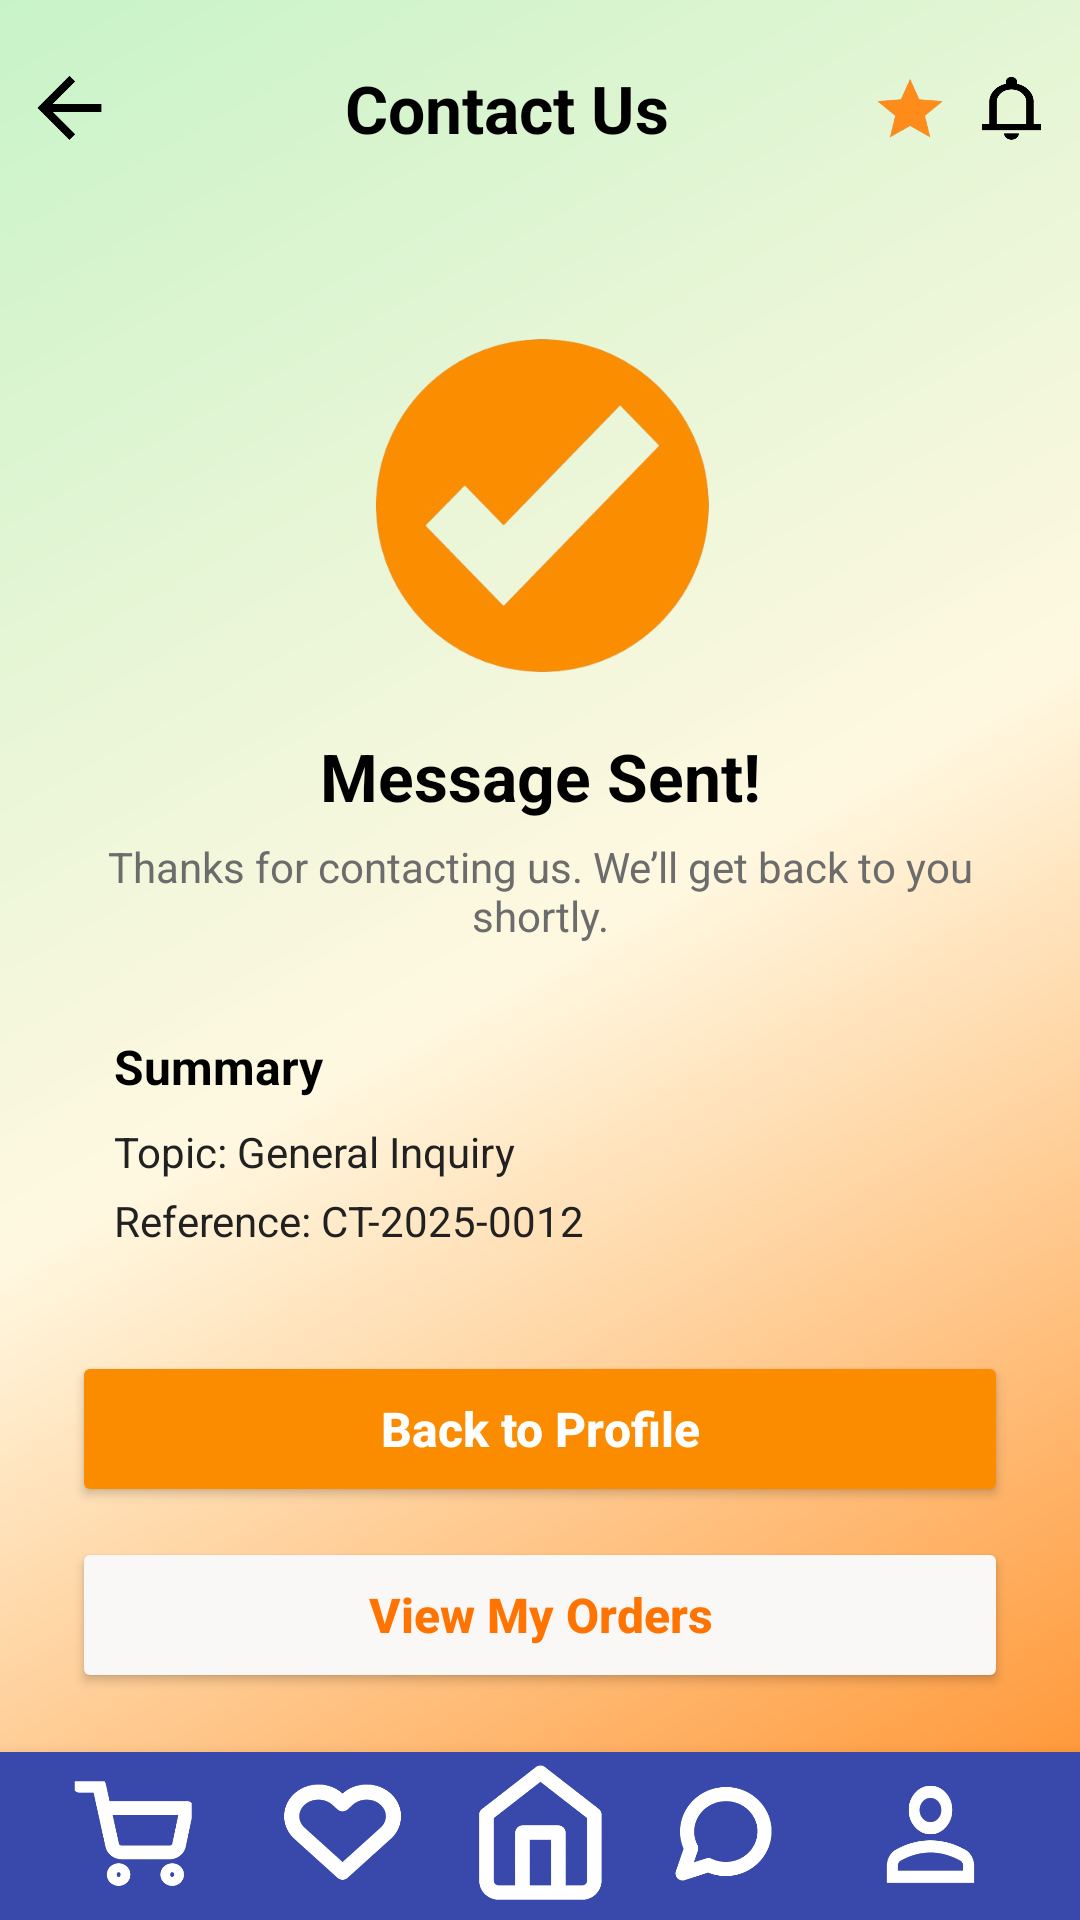

Point at icon controls on the screen. Image size 1080 × 1920, points as (x=x, y=y).
back arrow: (x=70, y=108)
bell: (x=1011, y=108)
menu cart: (x=133, y=1833)
menu home: (x=540, y=1832)
menu profile: (x=930, y=1834)
menu wishlist: (x=342, y=1832)
star: (x=909, y=108)
Success: (x=542, y=505)
